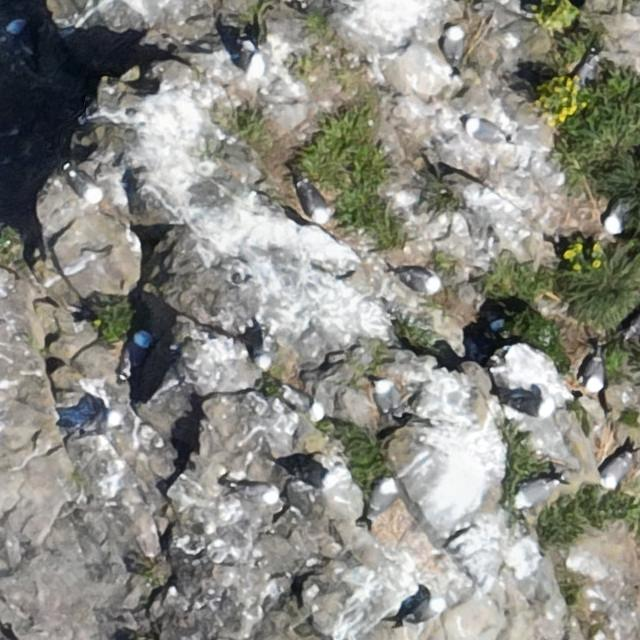umineko: (510, 472, 569, 508), (360, 478, 399, 524), (231, 34, 264, 78), (234, 476, 281, 506), (82, 411, 124, 436), (250, 332, 276, 368), (603, 457, 629, 488), (467, 121, 505, 142), (403, 270, 438, 292), (72, 174, 100, 201), (508, 398, 547, 417), (409, 600, 441, 622), (585, 359, 603, 392), (444, 29, 462, 62), (577, 55, 597, 84), (130, 334, 148, 366), (304, 189, 325, 215), (606, 207, 626, 233), (377, 384, 394, 411)
